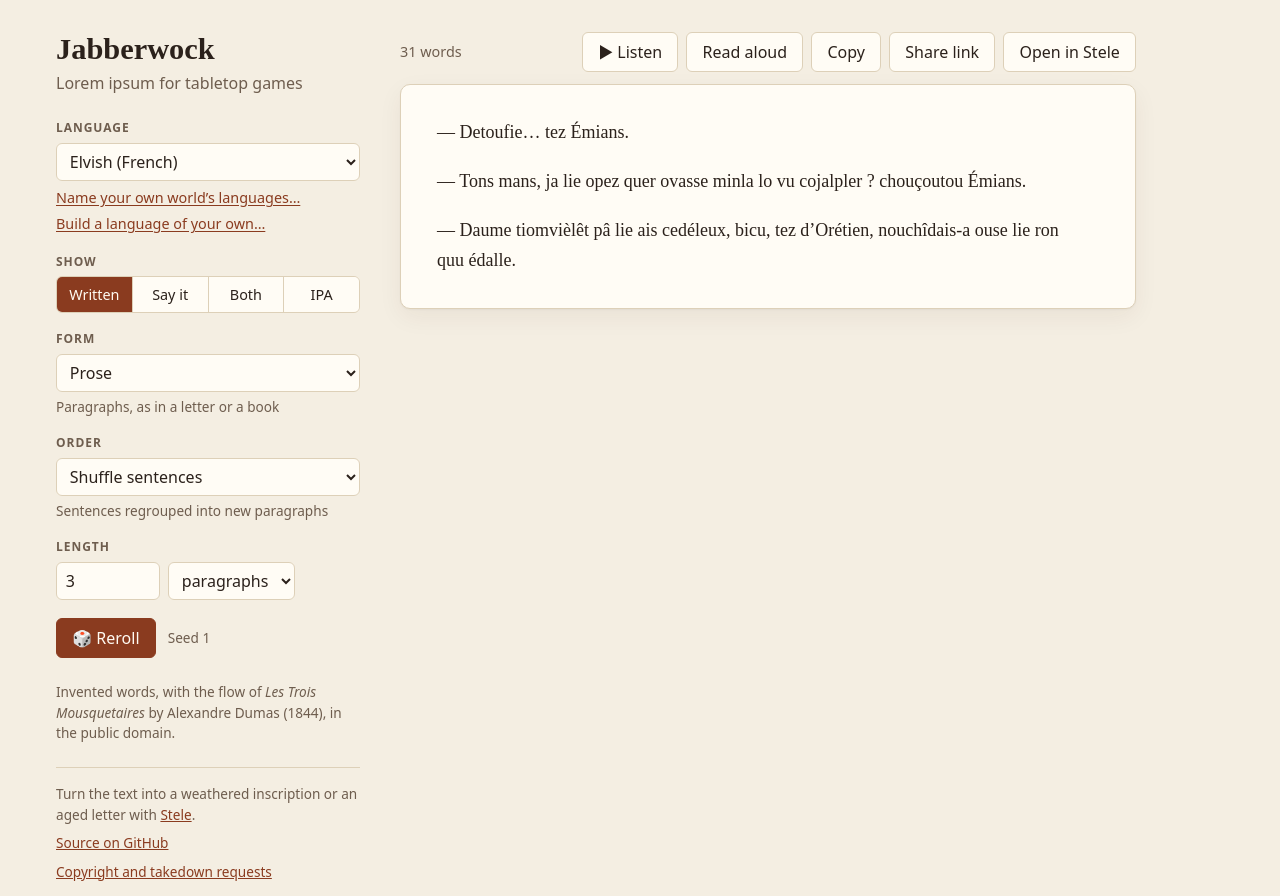
Test: Your own languages › adds sounds from the palette to the class last typed in
Click the button "Build a language of your own…" at (161, 224), box [56,213,265,235]
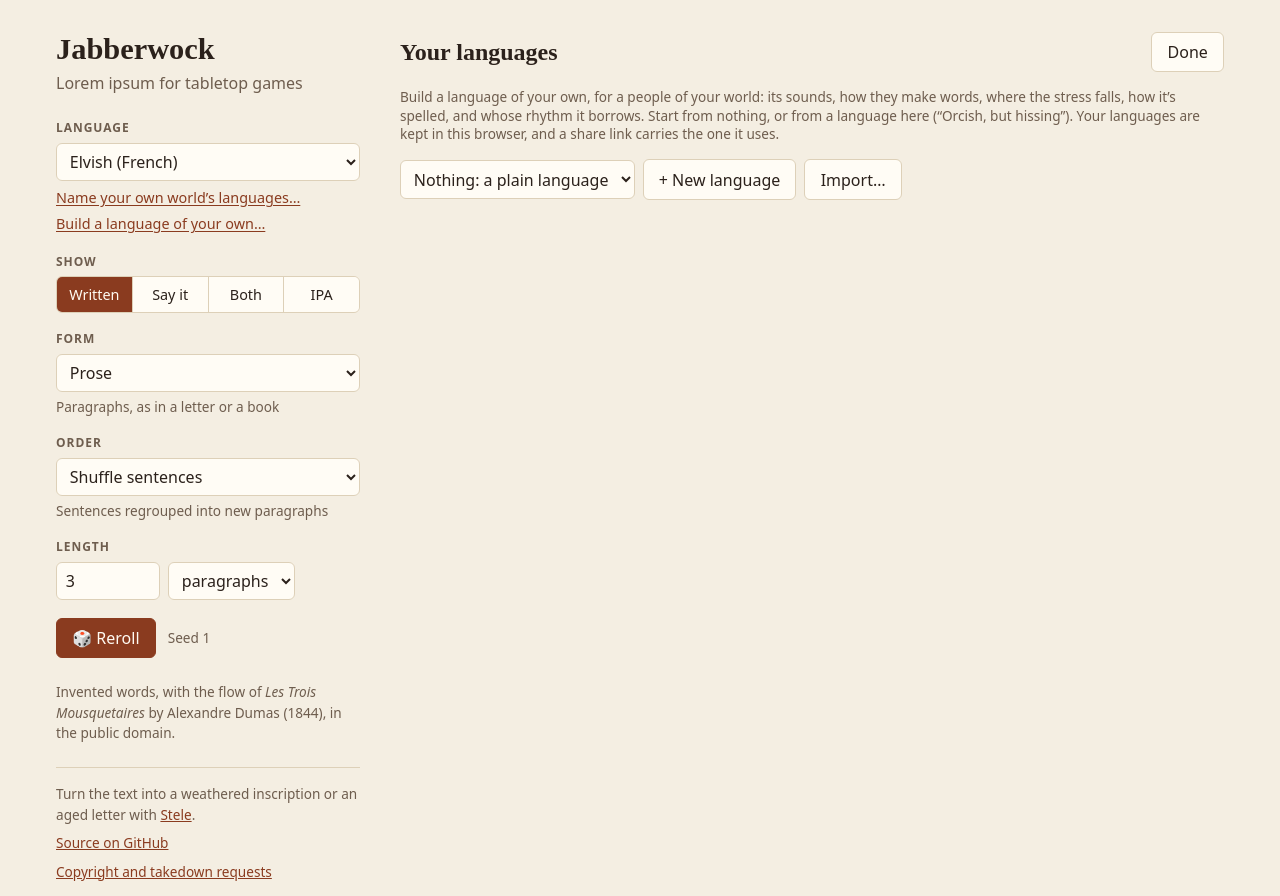
Click the button "+ New language" at (720, 180), box [643,159,796,200]
(page scrolled)
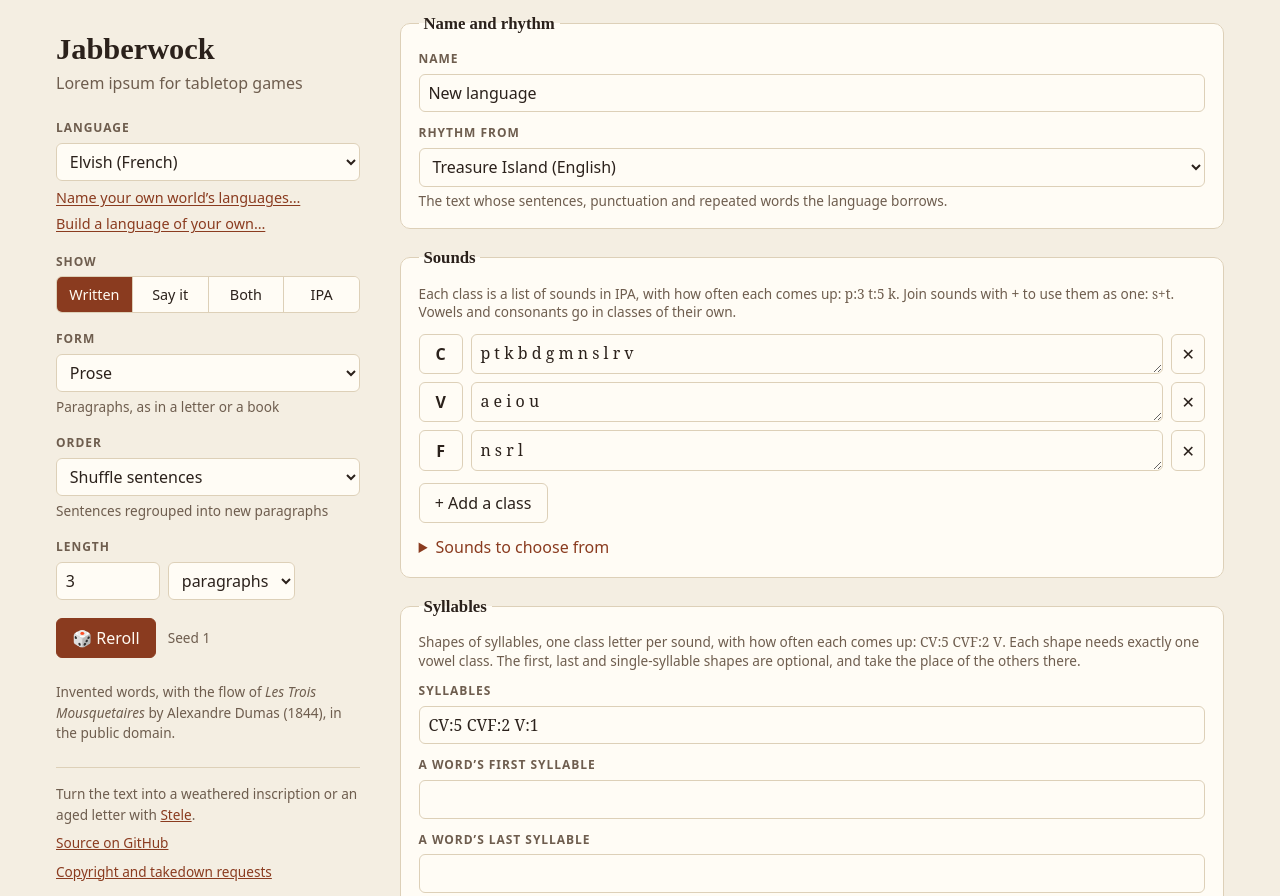
Click the text box named "Sounds in class F" at (817, 451), box [471,430,1163,471]
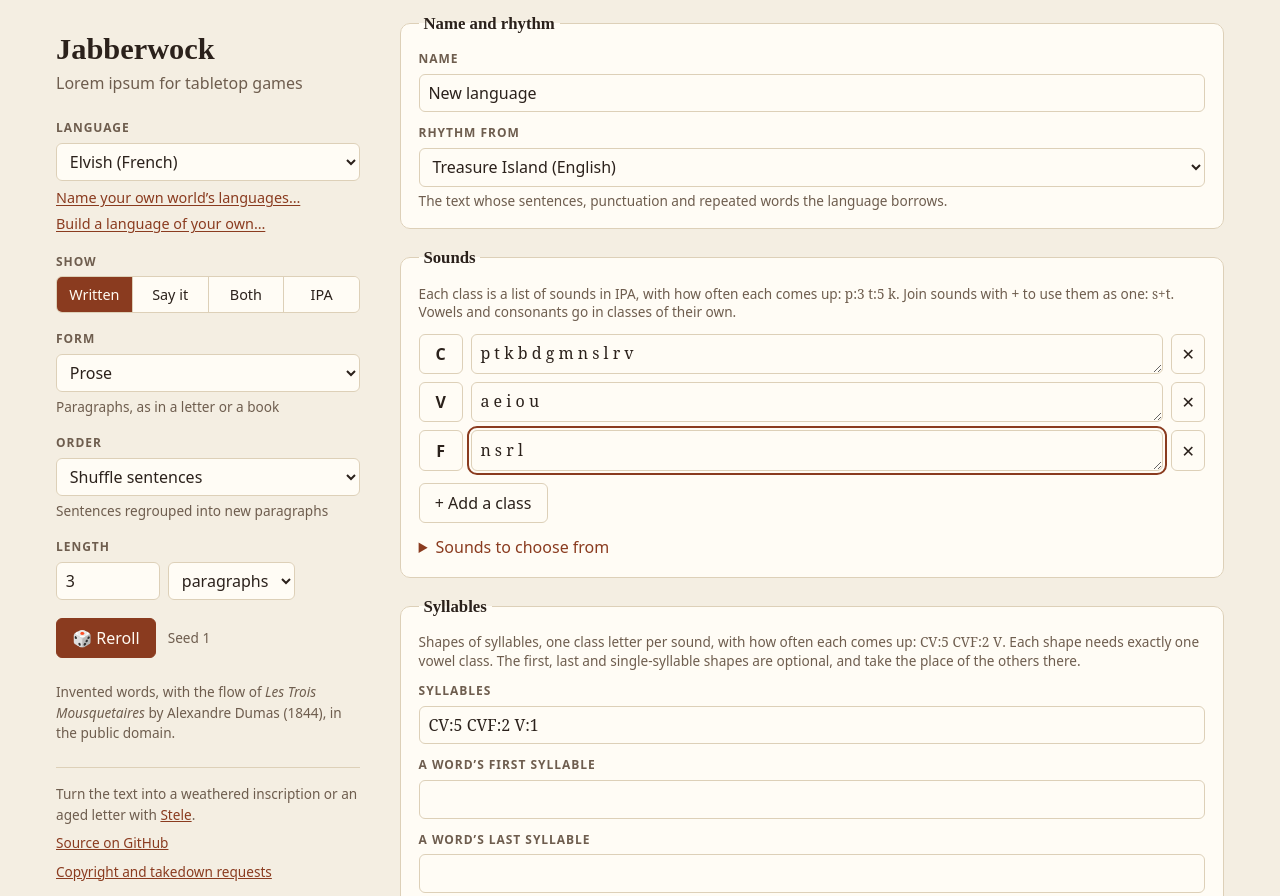
Click the heading "Sounds to choose from" at (522, 547), box [436,536,609,558]
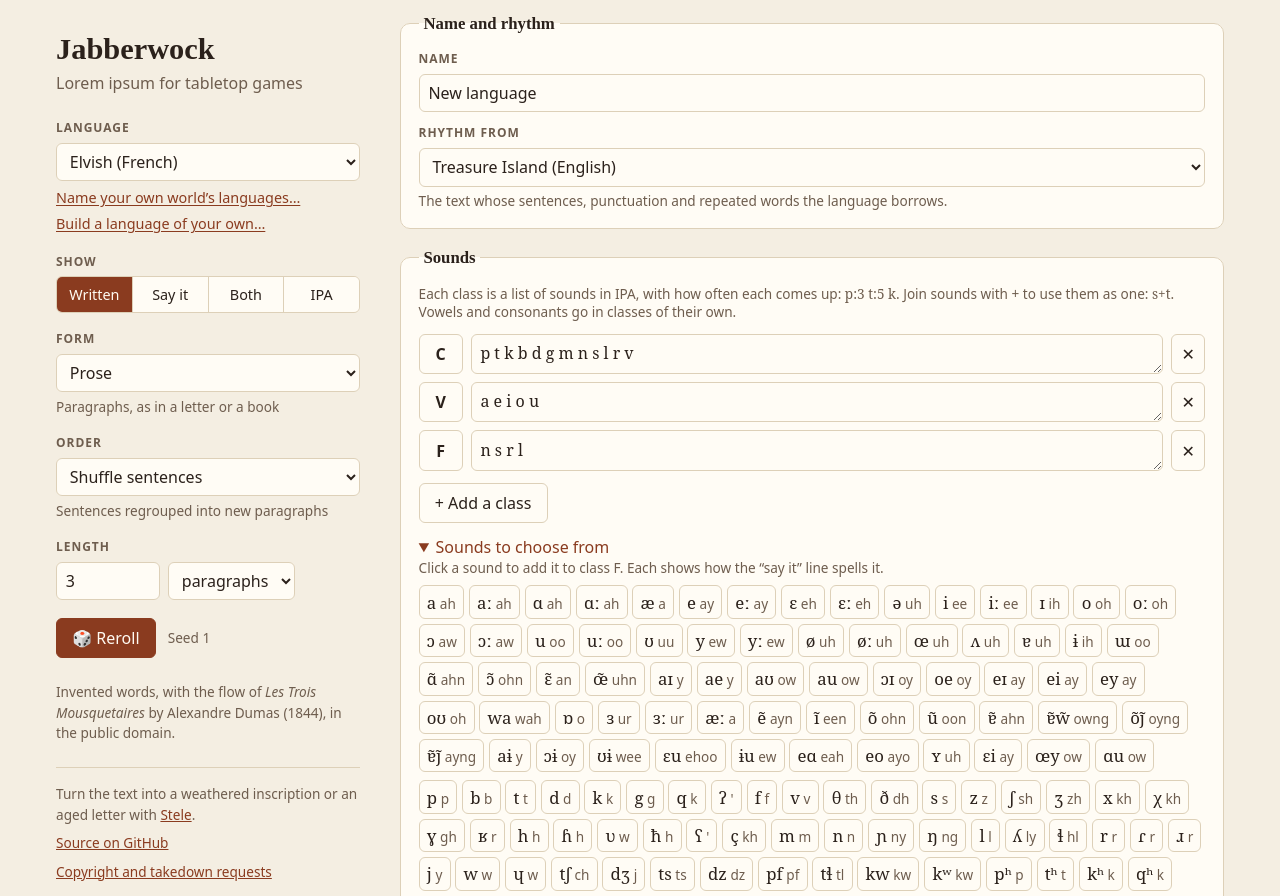
Click the button "x kh" at (1118, 797), box [1095,780,1140,814]
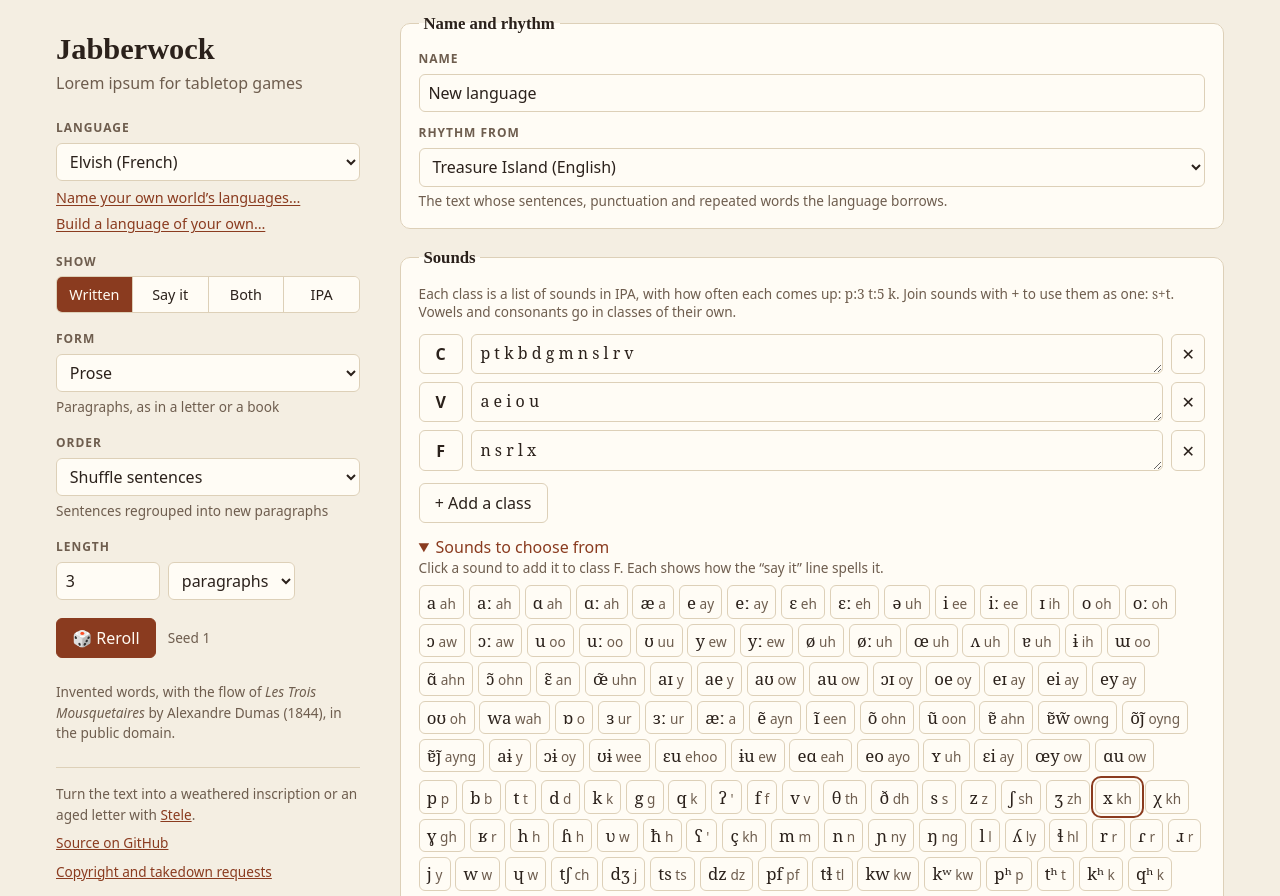
Expected: the text box named "Sounds in class F" holds "n s r l x", [471,430,1163,471]
